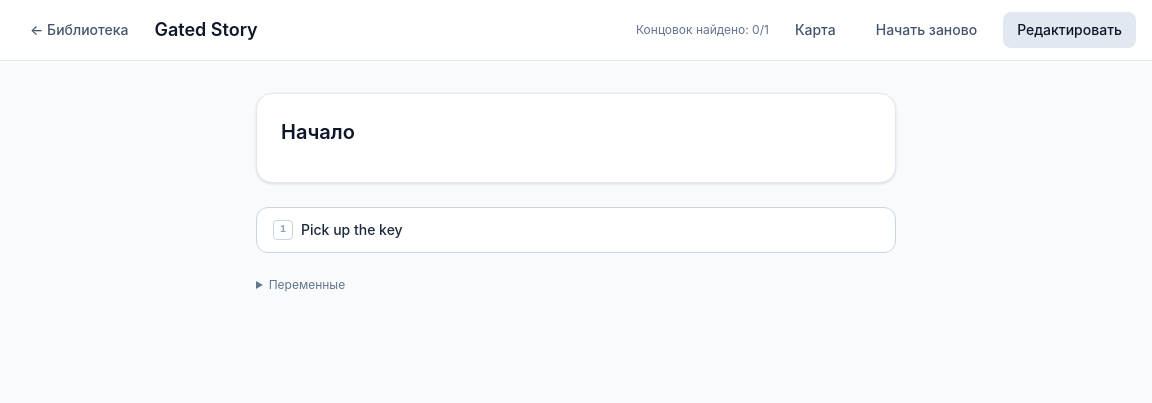
it: PlayerScreen › hides a conditional choice until its gating variable threshold is met, then allows taking it
Expected: the button "Open the locked door" is not shown
Click the button "1 Pick up the key": coordinates (352, 230) [256,207,896,253]
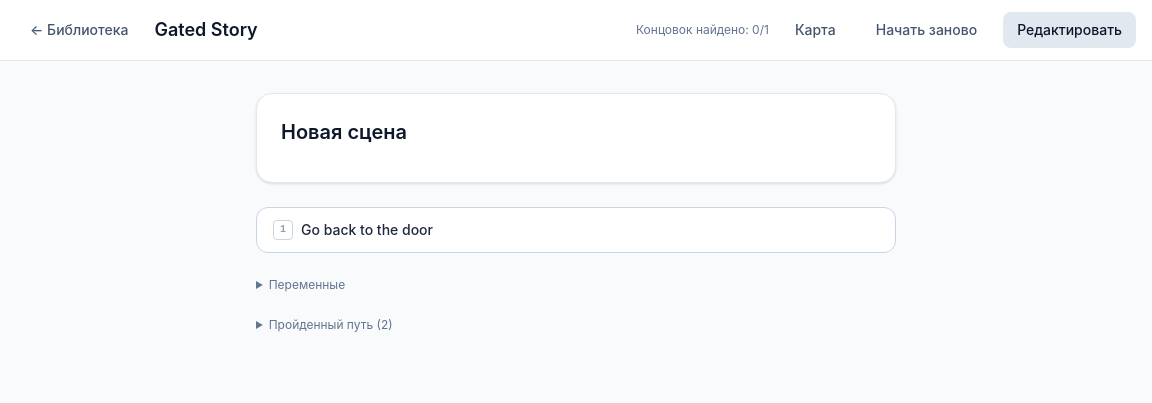
Click the button "1 Go back to the door": coordinates (367, 230) [256,207,896,253]
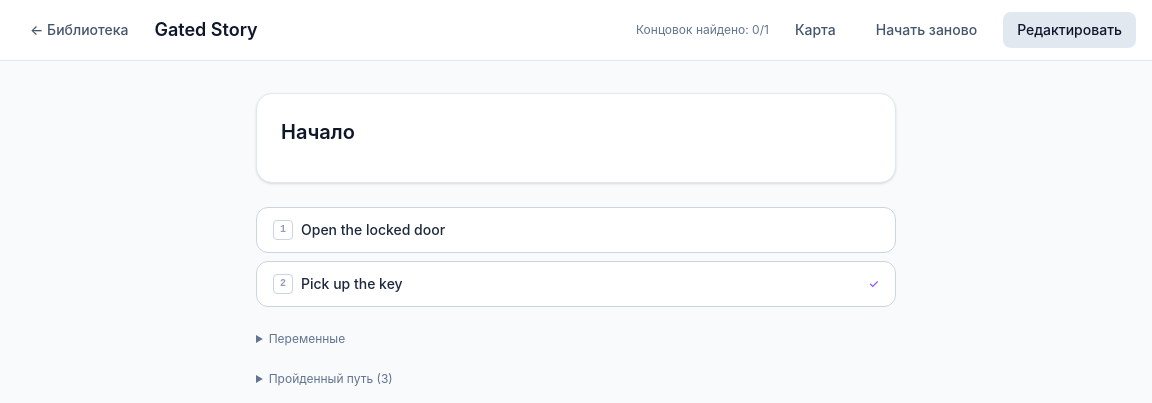
Expected: the button "1 Open the locked door" is shown
Click the button "1 Open the locked door": coordinates (373, 230) [256,207,896,253]
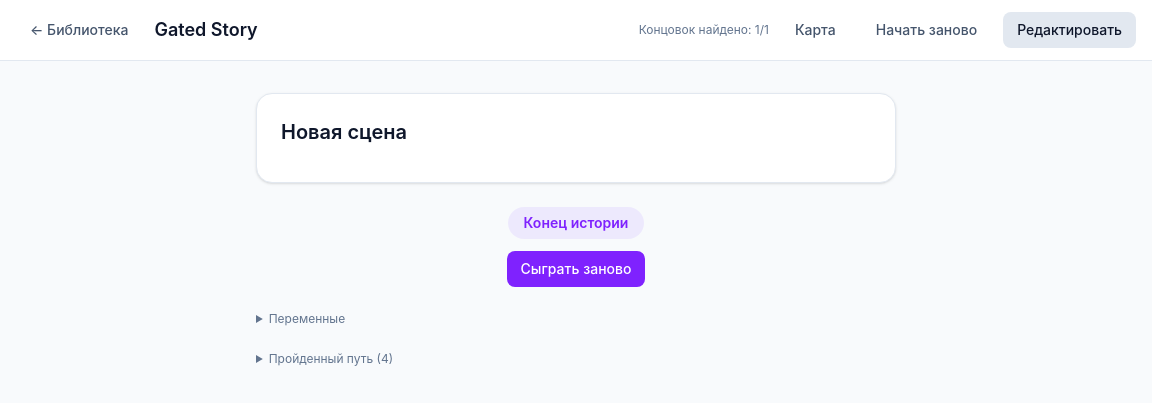
Expected: the heading "Новая сцена" is shown, [281,120,407,144]
